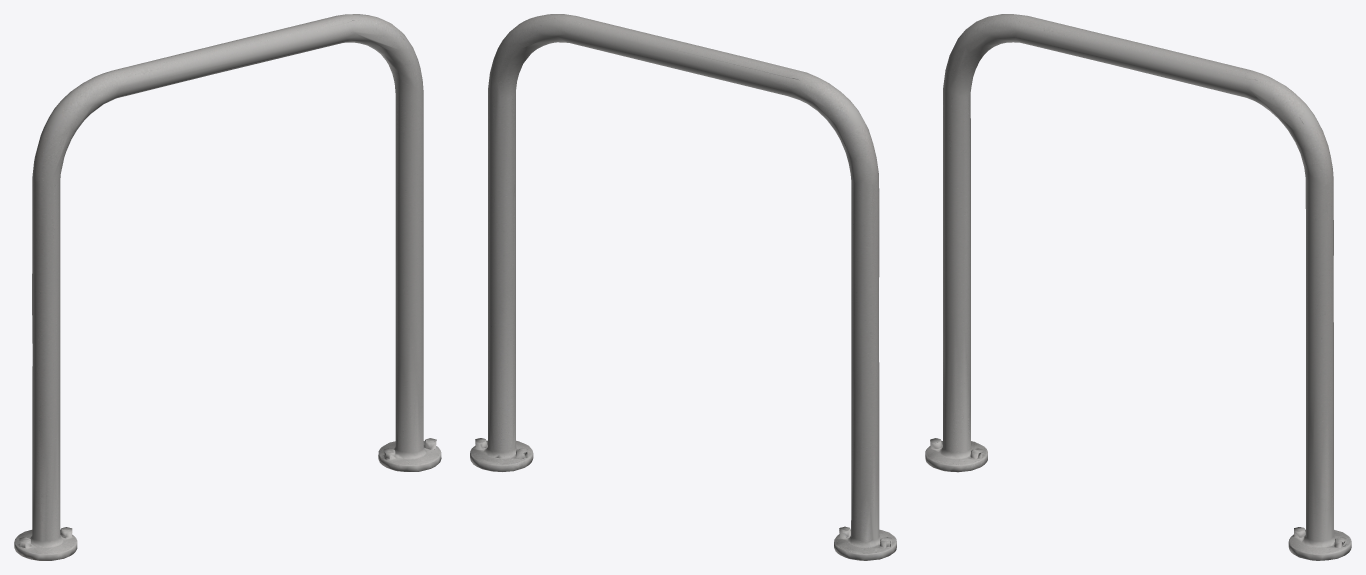
Rendered from midori_bicycle_rack.glb.
3 views of the same model, side by side, from view 1: azimuth 30°, elevation 25°; view 2: azimuth 150°, elevation 25°; view 3: azimuth 330°, elevation 25° (orthographic).
Parts seen in each view (by area): view 1: Midori_Bicycle_Rack_Candidate; view 2: Midori_Bicycle_Rack_Candidate; view 3: Midori_Bicycle_Rack_Candidate.
Boxes of the visible parts, x1,y1,x2,y2 form: Midori_Bicycle_Rack_Candidate: (14,14,441,560); Midori_Bicycle_Rack_Candidate: (470,14,896,560); Midori_Bicycle_Rack_Candidate: (925,14,1351,560).
Bounding box in the file's own units: 0.8228 × 0.8636 × 0.1073.
1 material, 1 textured.
